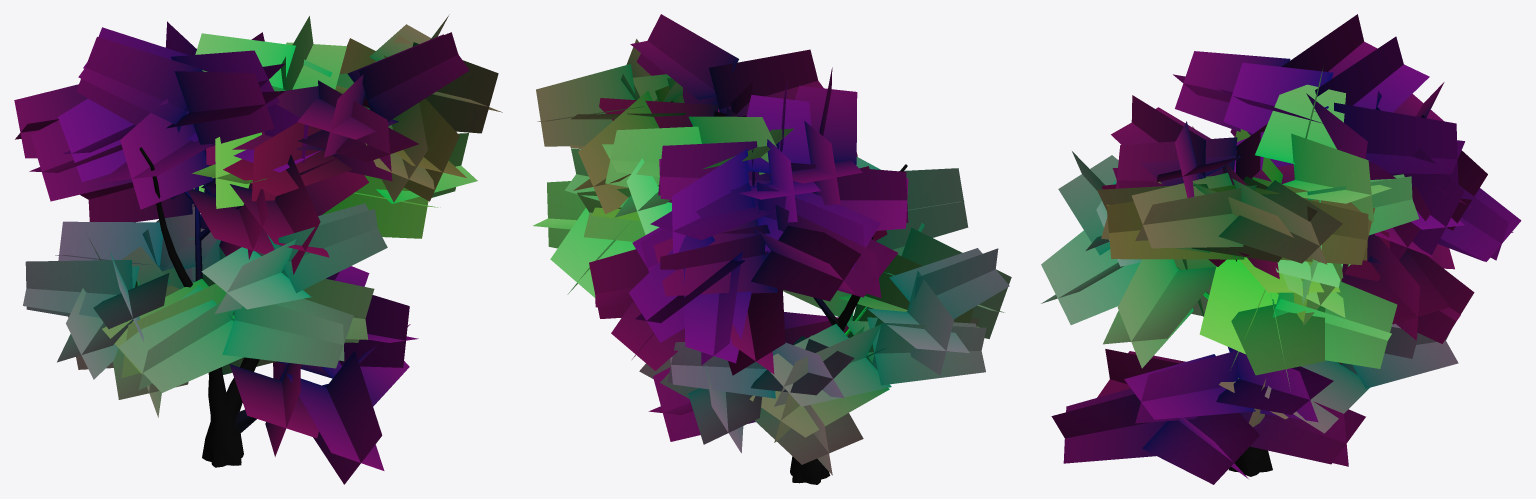
File: M_Realistic12_10.fbx
3 views of the same model, side by side, from view 1: azimuth 30°, elevation 25°; view 2: azimuth 150°, elevation 25°; view 3: azimuth 270°, elevation 25° (orthographic). The views are drawn at different scales.
Visible parts, largest first — view 1: Tree_10; view 2: Tree_10; view 3: Tree_10.
Part boxes in pixels (x1,y1,x2,y2): Tree_10: [14, 14, 502, 484]; Tree_10: [533, 14, 1011, 484]; Tree_10: [1041, 14, 1521, 484].
Bounding box in the file's own units: 1410 × 1237 × 1284.
